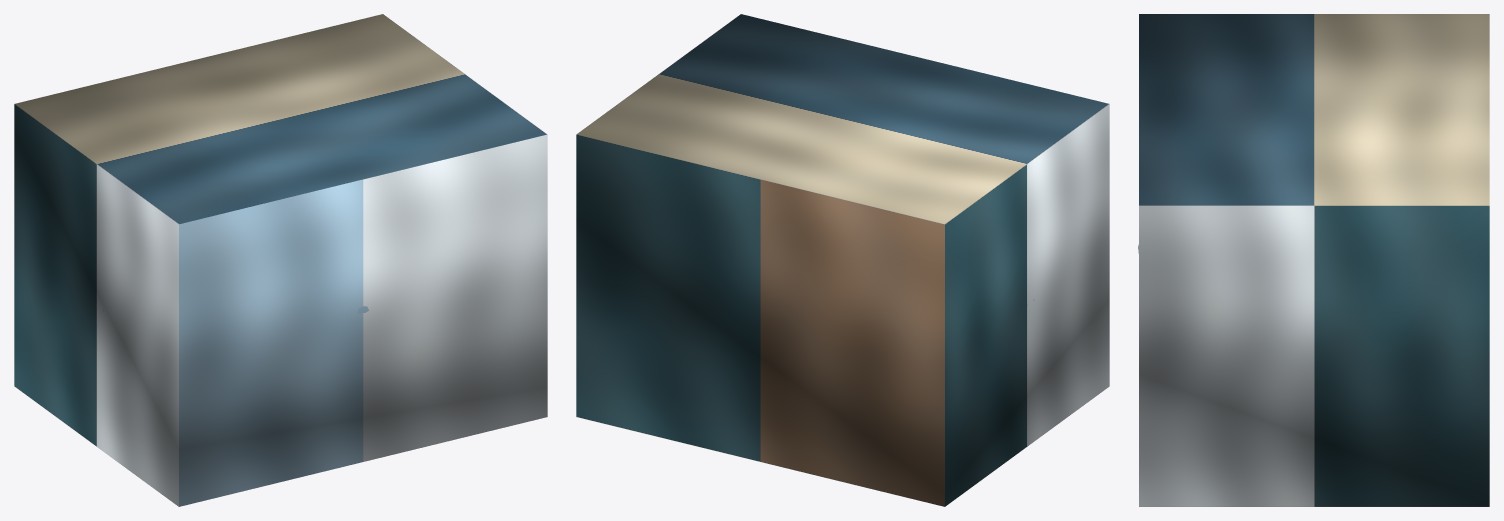
Rendered from ice_rock_a.glb.
3 renders of one model, left to right at view 1: azimuth 30°, elevation 25°; view 2: azimuth 150°, elevation 25°; view 3: azimuth 270°, elevation 25°, orthographic. The views are drawn at different scales.
Visible parts, largest first — view 1: col; view 2: col; view 3: col.
Boxes of the visible parts, <box> form: col: <box>14,14,547,506</box>; col: <box>576,14,1109,506</box>; col: <box>1139,14,1489,506</box>.
Bounding box in the file's own units: 2.15 × 1.58 × 1.67.
1 material, 1 textured.
